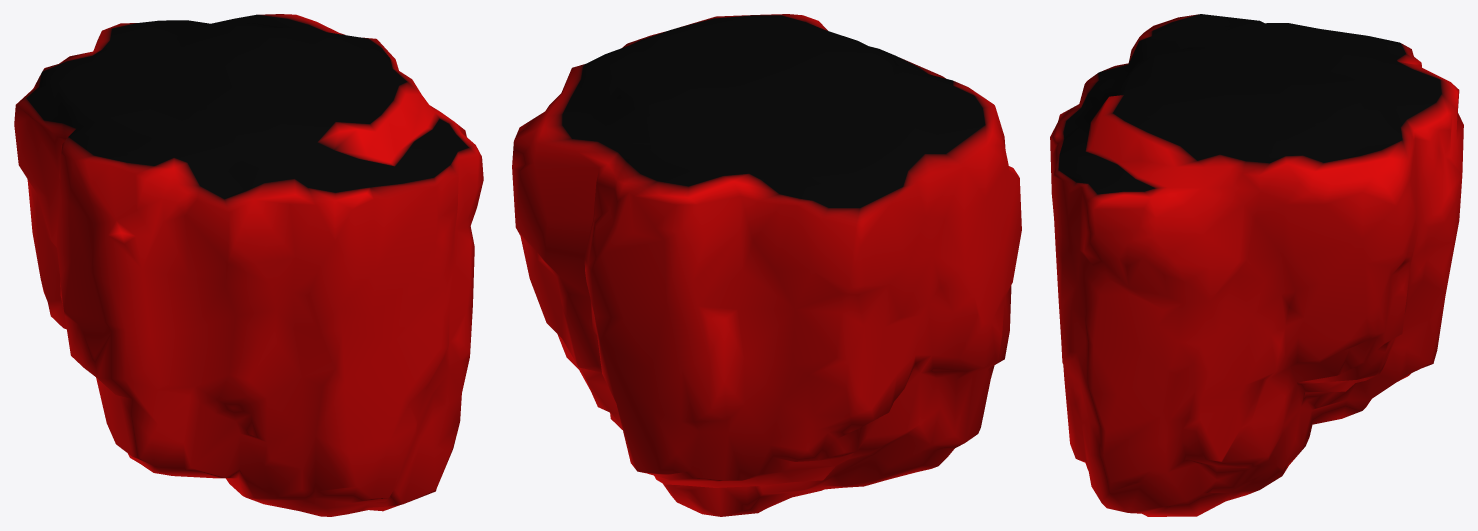
File: SM_Cliff_Medium_01.fbx
The picture shows the model from 3 angles, left to right: view 1: azimuth 30°, elevation 25°; view 2: azimuth 150°, elevation 25°; view 3: azimuth 270°, elevation 25°; orthographic projection. The views are drawn at different scales.
Visible parts, largest first — view 1: SM_Cliff_Medium_01_LOD0; view 2: SM_Cliff_Medium_01_LOD0; view 3: SM_Cliff_Medium_01_LOD0.
Part boxes in pixels (x1,y1,x2,y2): SM_Cliff_Medium_01_LOD0: (14,14,483,516); SM_Cliff_Medium_01_LOD0: (512,14,1021,516); SM_Cliff_Medium_01_LOD0: (1050,14,1463,516).
Size of the model in its own units: 1274 by 1377 by 1300.
